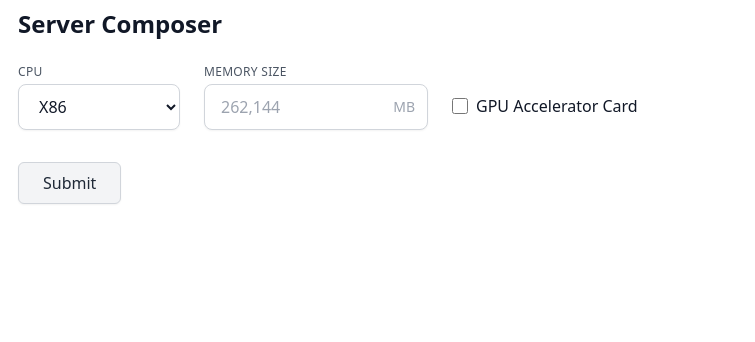
Scenario: ServerComposer › shows High Density for ARM + GPU + 524,288 (Example 4)
This screenshot has width=755, height=342.
Select "ARM" in the dropdown labelled "CPU" at (99, 107), box x1=18 y1=84 x2=180 y2=130
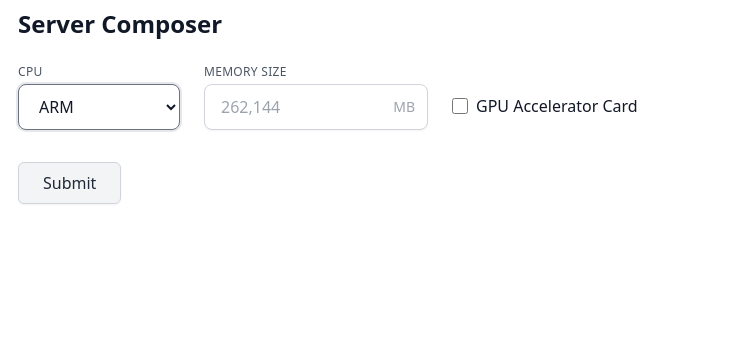
Type "524,288" into the field labelled "Memory Size".
click(293, 107); type("524,288")  # box x1=205 y1=85 x2=381 y2=129
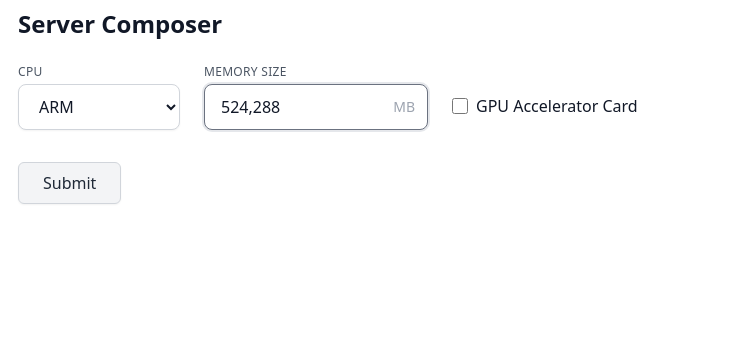
Click the checkbox labelled "GPU Accelerator Card".
click(460, 106)  # box x1=452 y1=98 x2=468 y2=114
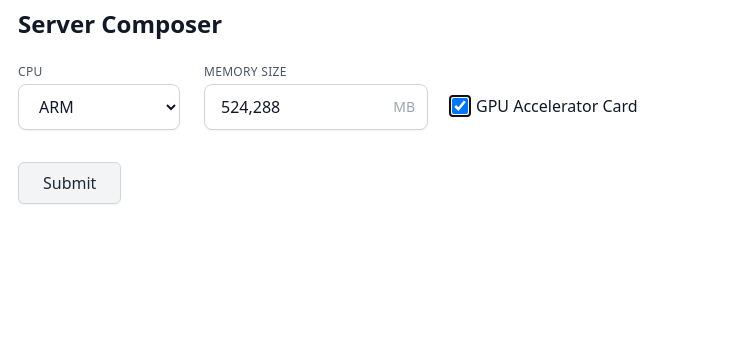
Click the button "Submit".
click(70, 183)  # box x1=18 y1=162 x2=121 y2=204
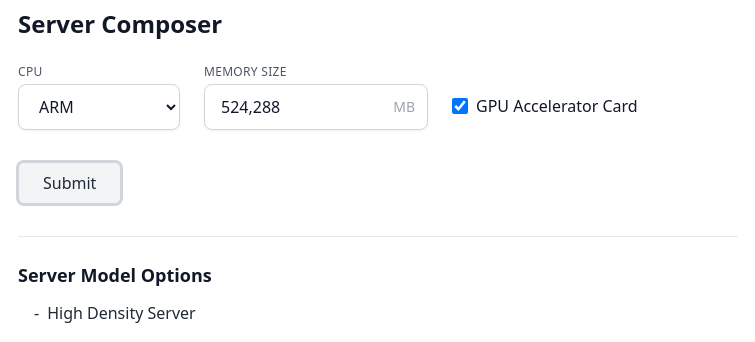
Now the text "High Density Server" is shown, box x1=47 y1=301 x2=196 y2=325
